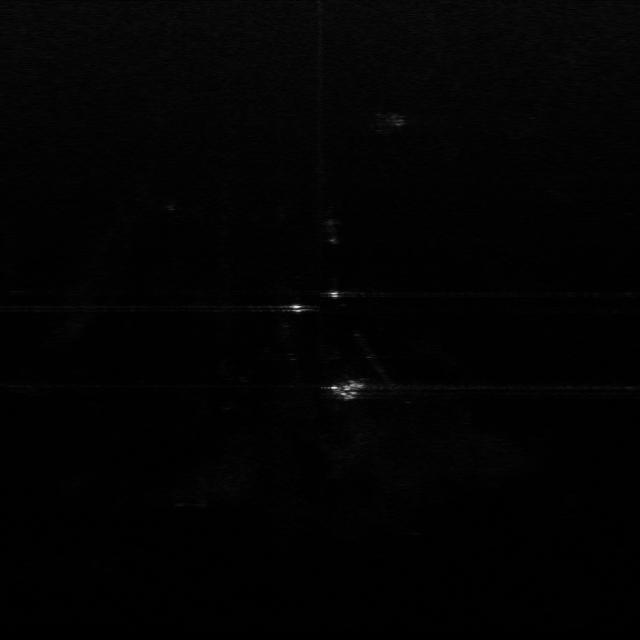rov: (324, 376, 370, 402)
